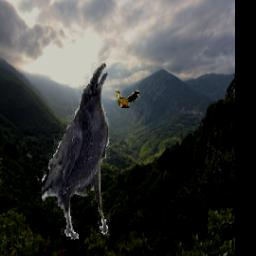Crow: (41, 63, 110, 241)
Cuckoo: (116, 90, 140, 108)
